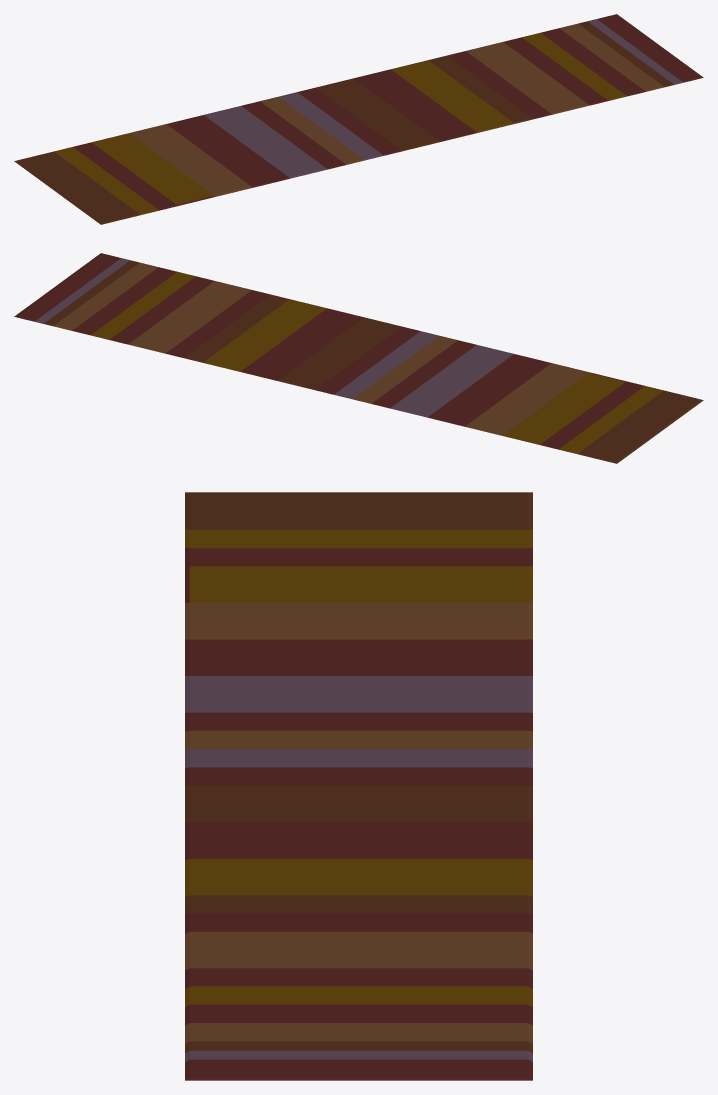
The model's file is Teppich G.fbx.
3 renders of one model, top to bottom at view 1: azimuth 30°, elevation 25°; view 2: azimuth 150°, elevation 25°; view 3: azimuth 270°, elevation 25°, orthographic. The views are drawn at different scales.
Visible parts, largest first — view 1: Plane; view 2: Plane; view 3: Plane.
Boxes of the visible parts, x1,y1,x2,y2 form: Plane: (14,14,703,224); Plane: (14,253,703,463); Plane: (185,492,532,1080).
Bounding box in the file's own units: 400 × 0.2844 × 100.
